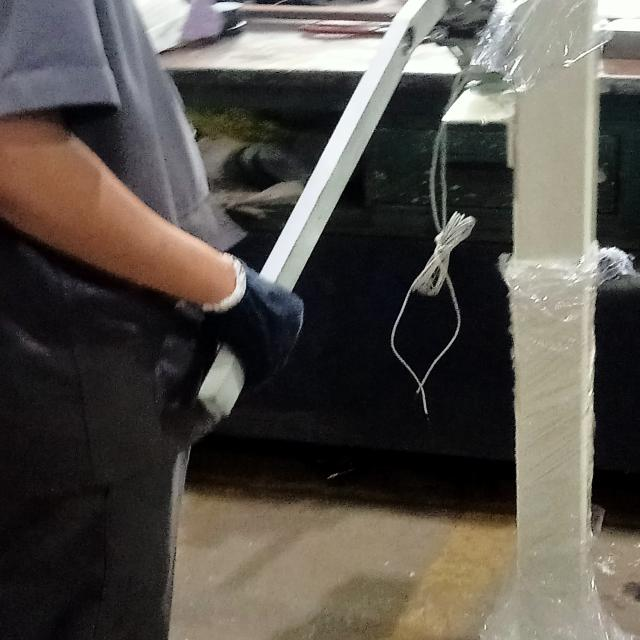Gloves-Detection: (229, 254, 305, 360)
